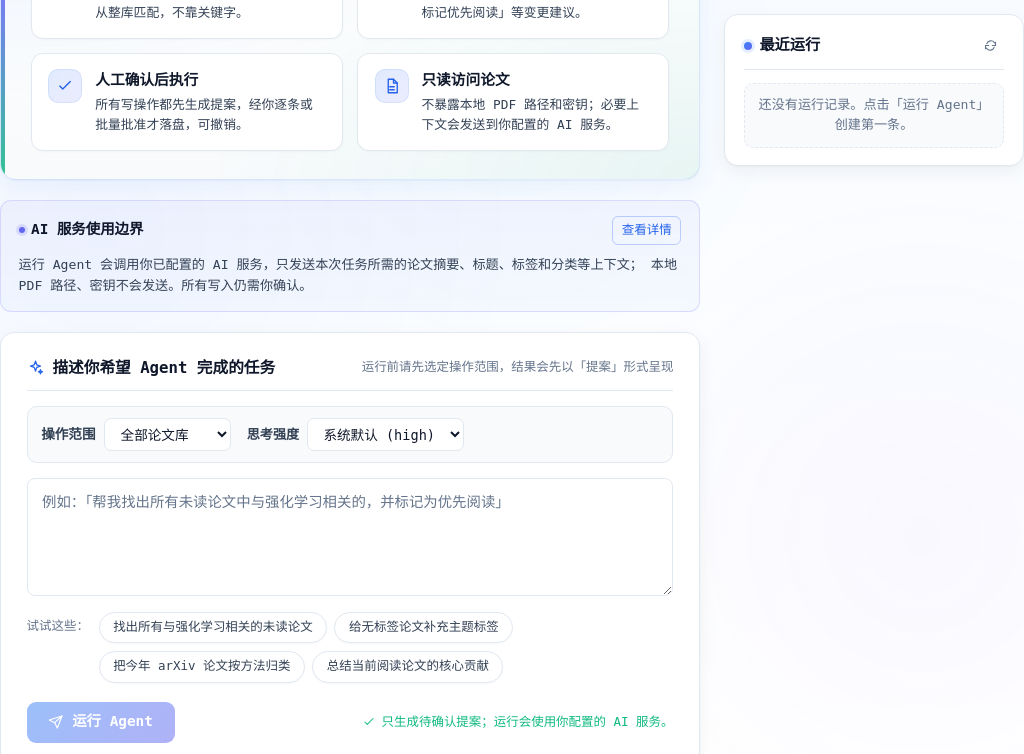
Scenario: can type prompt and submit
(page scrolled)
Type "帮我整理论文库" into the text box named "Agent 提示词".
click(350, 537); type("帮我整理论文库")  # box [27,478,673,596]
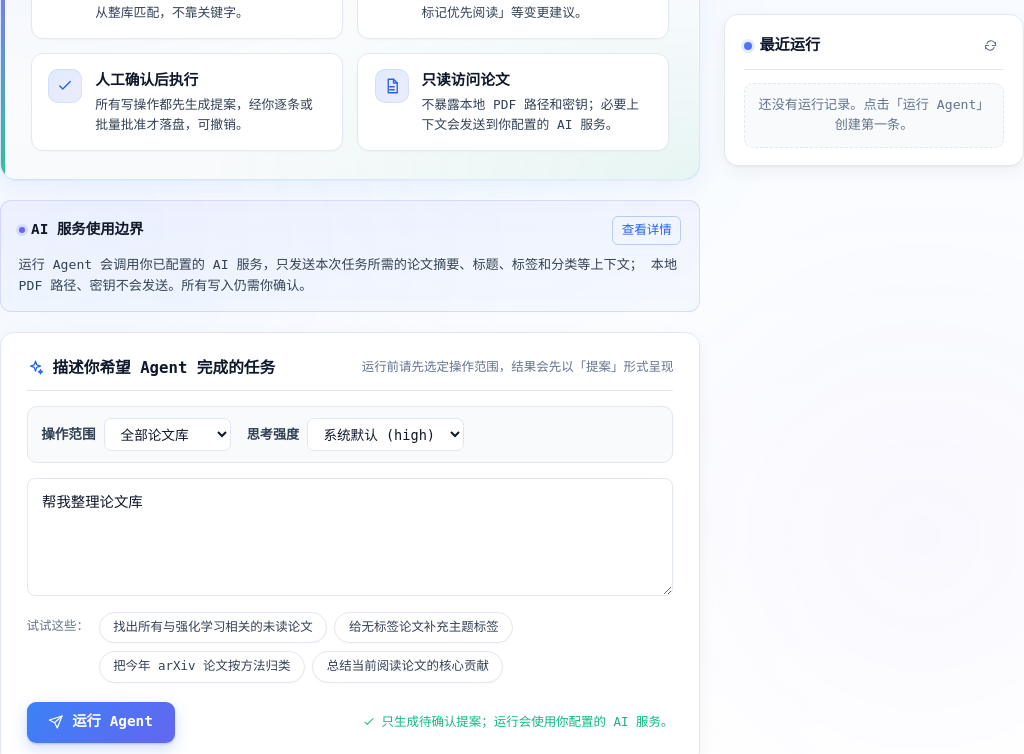
Click the button "运行 Agent".
click(101, 722)  # box [27,702,175,742]
(page scrolled)
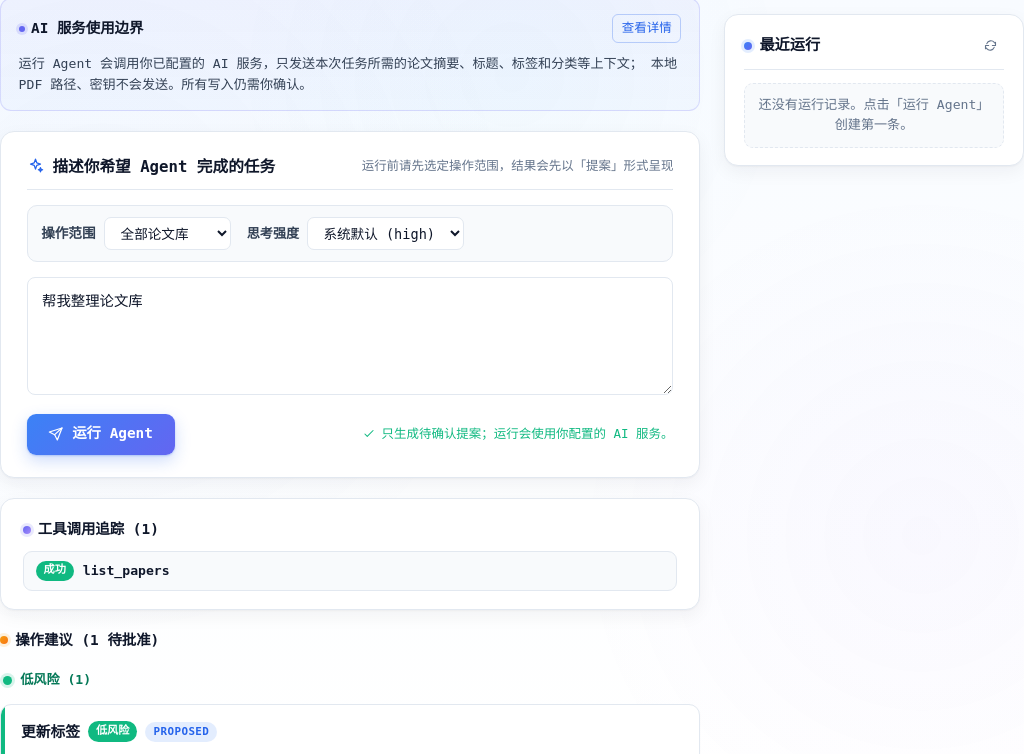
Check: the heading "工具调用追踪 (1)" is shown, box [23,519,159,540]
Check: the text "更新标签" is shown, box [21,721,80,743]
